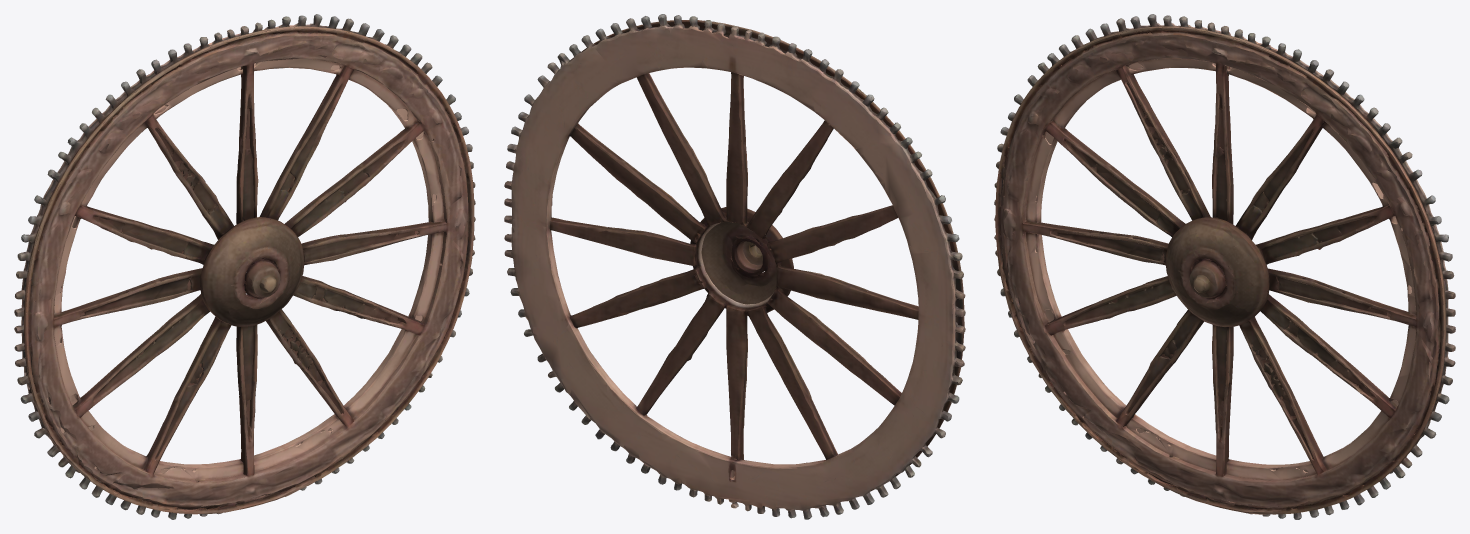
Rendered from park-ferris-wheel.glb.
The picture shows the model from 3 angles, left to right: view 1: azimuth 30°, elevation 25°; view 2: azimuth 150°, elevation 25°; view 3: azimuth 330°, elevation 25°; orthographic projection.
Visible parts, largest first — view 1: world; view 2: world; view 3: world.
Boxes of the visible parts, x1,y1,x2,y2 form: world: [14, 14, 475, 519]; world: [504, 14, 965, 519]; world: [994, 14, 1455, 519].
Bounding box in the file's own units: 0.7998 × 0.7997 × 0.0877.
1 material, 1 textured.
